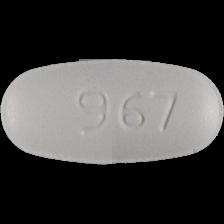0093-7267: (0, 0, 224, 224)
